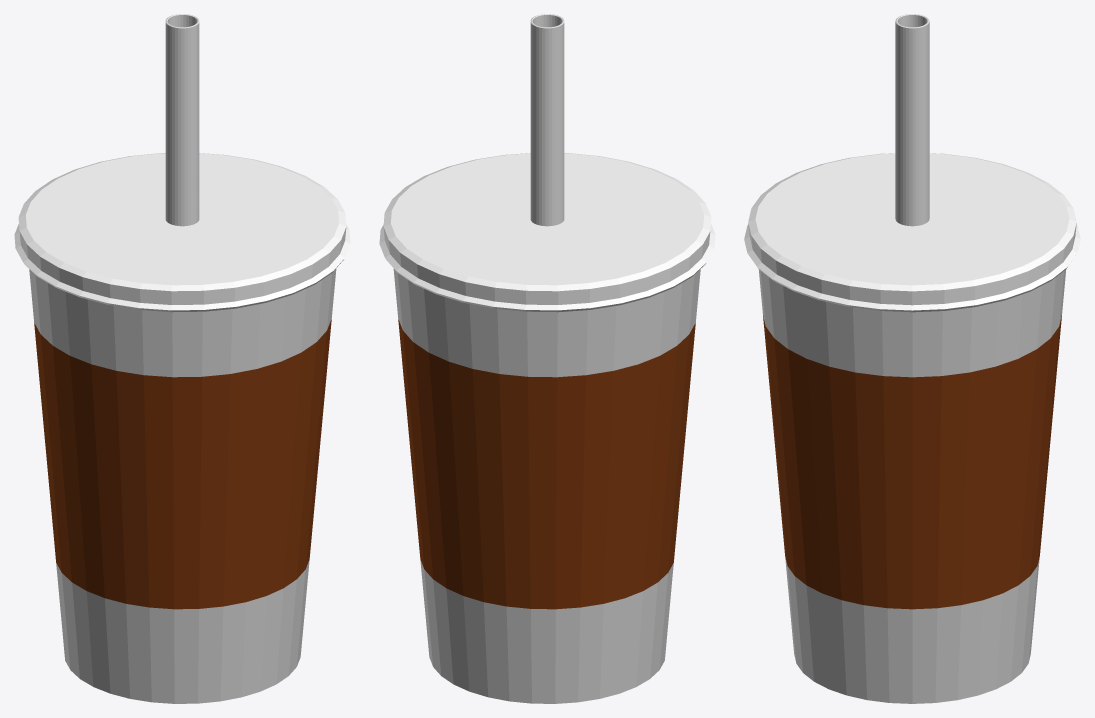
Rendered from drink.fbx.
3 views of the same model, side by side, from view 1: azimuth 30°, elevation 25°; view 2: azimuth 150°, elevation 25°; view 3: azimuth 270°, elevation 25° (orthographic).
Parts seen in each view (by area): view 1: Vaso, Tapa, Sorbete; view 2: Vaso, Tapa, Sorbete; view 3: Vaso, Tapa, Sorbete.
Boxes of the visible parts, x1,y1,x2,y2 form: Vaso: (29, 268, 336, 703); Tapa: (14, 153, 350, 312); Sorbete: (165, 14, 199, 226); Vaso: (393, 268, 700, 703); Tapa: (379, 153, 715, 312); Sorbete: (530, 14, 564, 226); Vaso: (758, 269, 1066, 703); Tapa: (744, 153, 1080, 312); Sorbete: (895, 14, 929, 226).
Bounding box in the file's own units: 46.37 × 96.2 × 46.37.
